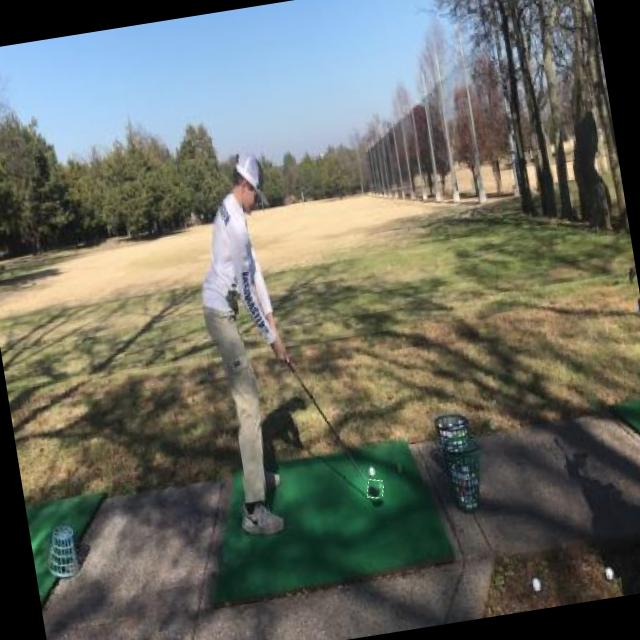club head: (366, 478, 386, 499)
